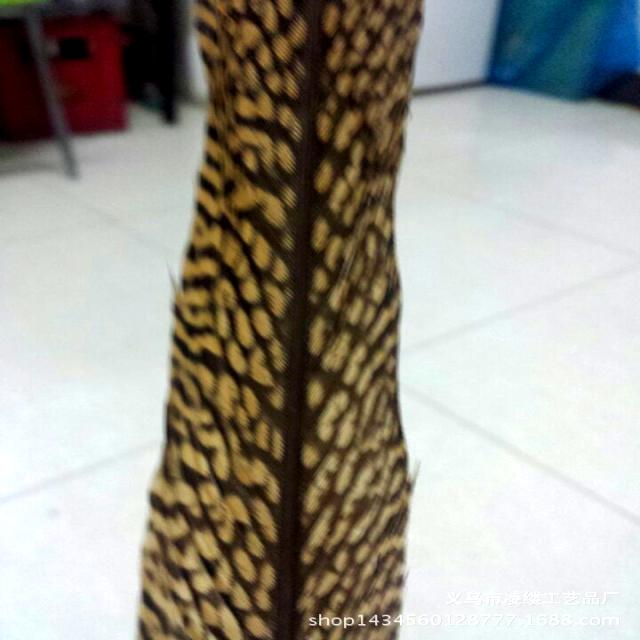Chrysolophus pictus feather: (139, 0, 422, 639)
